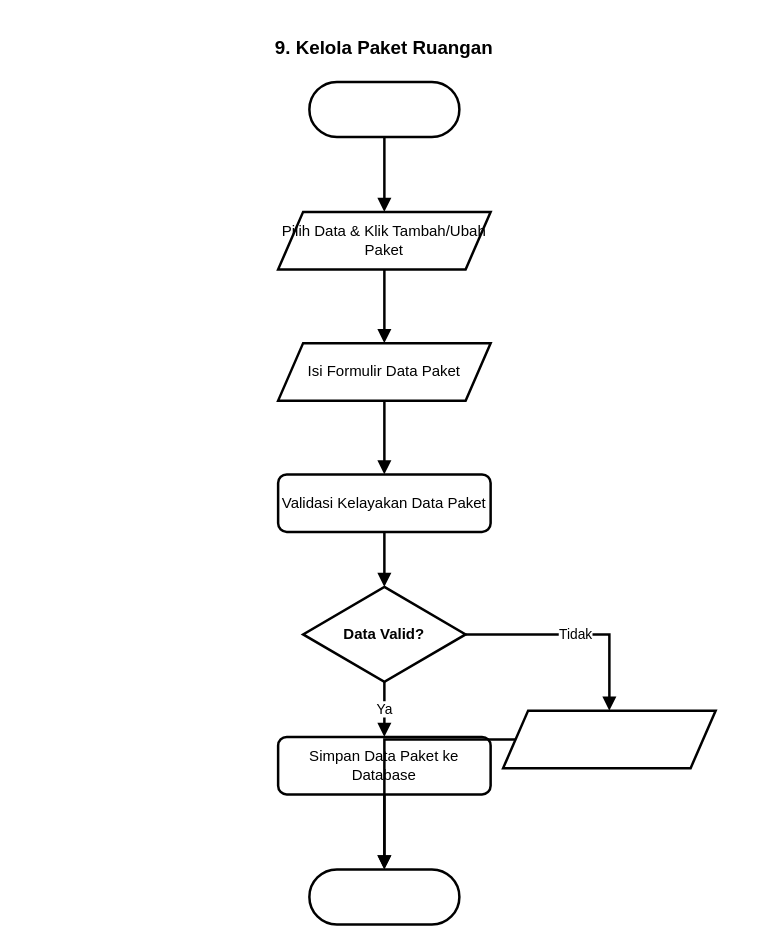
Image size: 768x946. Some labels were removed from this diagram. Here are the shapes that lost their labels. From the top down, the centre of each, then its label:
At (384,109): "Mulai".
At (608,739): "Tampilkan Notifikasi Error Form".
At (384,896): "Selesai".
